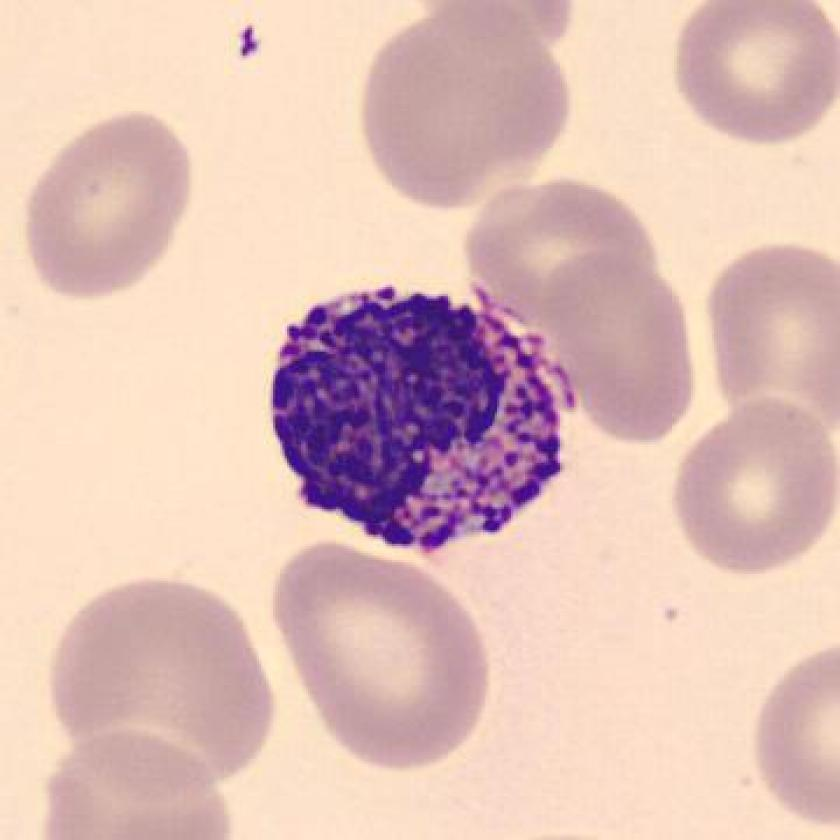basophil: (269, 279, 580, 554)
